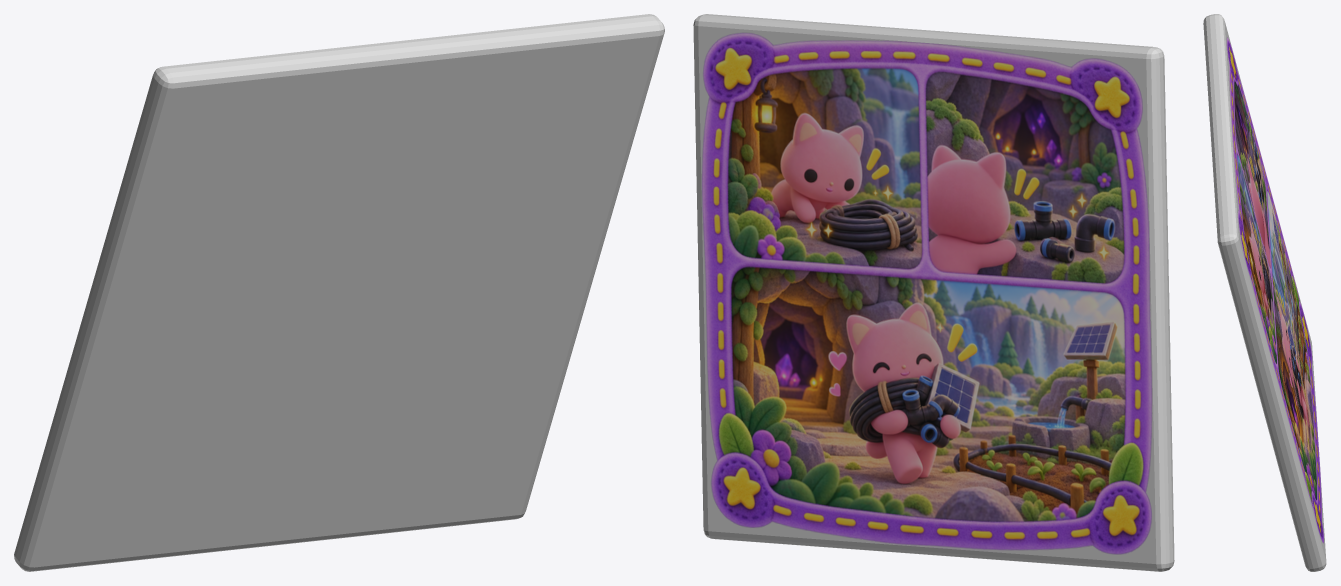
File: memory_9.glb
3 renders of one model, left to right at view 1: azimuth 30°, elevation 25°; view 2: azimuth 150°, elevation 25°; view 3: azimuth 270°, elevation 25°, orthographic. The views are drawn at different scales.
Visible parts, largest first — view 1: memory_9_page; view 2: memory_9_page; view 3: memory_9_page.
Boxes of the visible parts, left/top/right/bottom form: memory_9_page: left=14, top=14, right=664, bottom=571; memory_9_page: left=693, top=14, right=1174, bottom=571; memory_9_page: left=1203, top=14, right=1326, bottom=571.
Size of what is drawn, in the model's own units: 0.9063 by 0.8854 by 0.2381.
2 materials, 1 textured.
